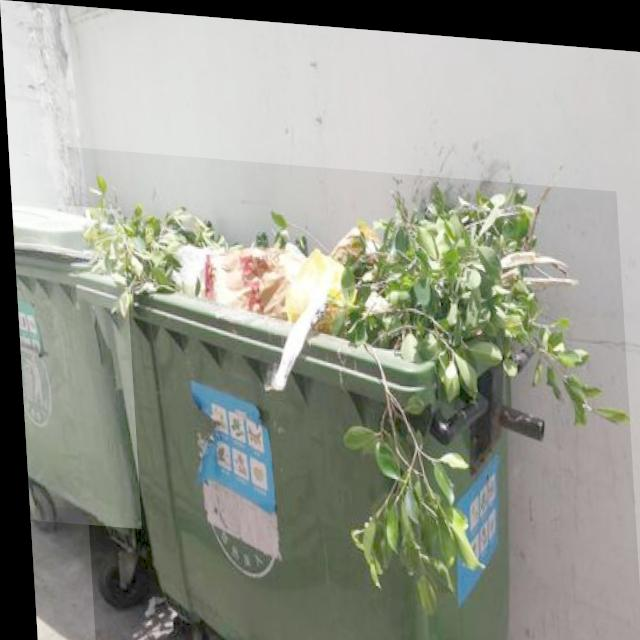garbage_bin: (9, 201, 135, 527)
overflow: (64, 146, 638, 640)
